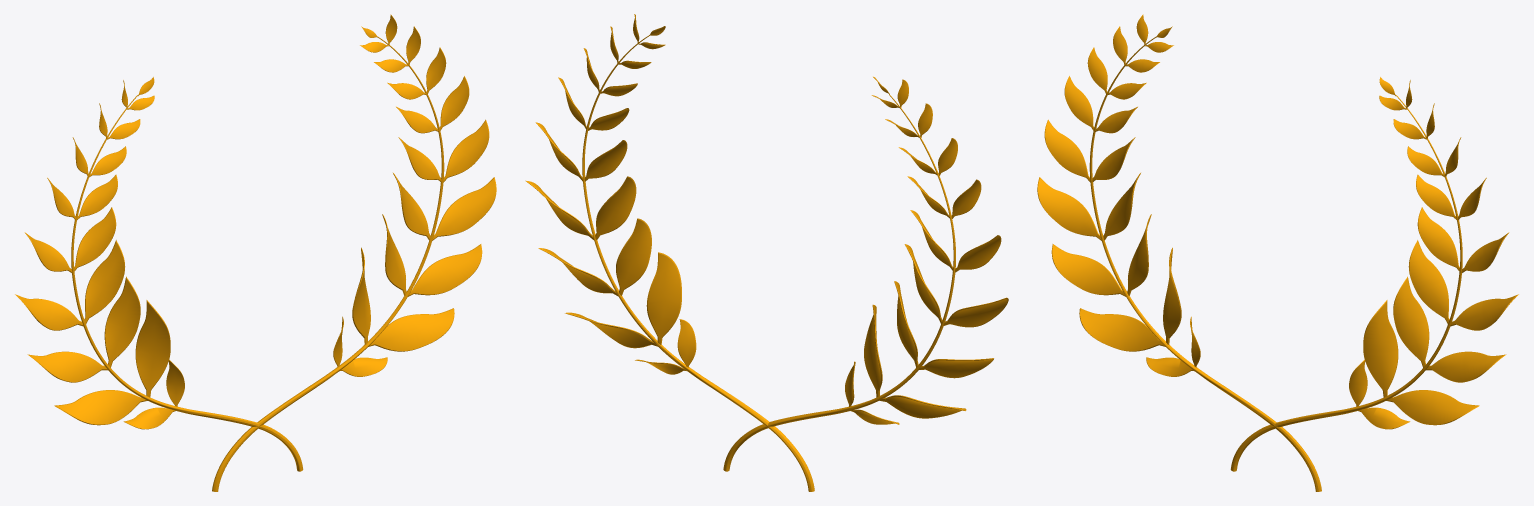
3 renders of one model, left to right at view 1: azimuth 30°, elevation 25°; view 2: azimuth 150°, elevation 25°; view 3: azimuth 330°, elevation 25°, orthographic.
Parts seen in each view (by area): view 1: Loft001, Line004_01 - Default_0, Line038_01 - Default_0, Loft002, Line042_01 - Default_0, Line006_01 - Default_0, Line035_01 - Default_0, Line008_01 - Default_0, Line039_01 - Default_0, Line037_01 - Default_0, Line010_01 - Default_0, Line036_01 - Default_0 (+14 smaller); view 2: Loft001, Line003_01 - Default_0, Loft002, Line005_01 - Default_0, Line007_01 - Default_0, Line042_01 - Default_0, Line028_01 - Default_0, Line037_01 - Default_0, Line038_01 - Default_0, Line004_01 - Default_0, Line009_01 - Default_0, Line029_01 - Default_0 (+6 smaller); view 3: Loft002, Line042_01 - Default_0, Line003_01 - Default_0, Loft001, Line004_01 - Default_0, Line037_01 - Default_0, Line005_01 - Default_0, Line028_01 - Default_0, Line007_01 - Default_0, Line006_01 - Default_0, Line029_01 - Default_0, Line009_01 - Default_0 (+14 smaller).
Part boxes in pixels (left/top/right/bottom): Loft001: left=212, top=37, right=444, bottom=491; Line004_01 - Default_0: left=368, top=308, right=454, bottom=351; Line038_01 - Default_0: left=135, top=300, right=170, bottom=397; Loft002: left=71, top=95, right=303, bottom=471; Line042_01 - Default_0: left=54, top=390, right=147, bottom=425; Line006_01 - Default_0: left=408, top=244, right=482, bottom=296; Line035_01 - Default_0: left=104, top=276, right=140, bottom=367; Line008_01 - Default_0: left=432, top=177, right=496, bottom=240; Line039_01 - Default_0: left=84, top=240, right=125, bottom=323; Line037_01 - Default_0: left=27, top=351, right=107, bottom=382; Line010_01 - Default_0: left=443, top=119, right=489, bottom=181; Line036_01 - Default_0: left=74, top=207, right=116, bottom=271; Loft001: left=582, top=35, right=814, bottom=491; Line003_01 - Default_0: left=646, top=252, right=681, bottom=344; Loft002: left=723, top=94, right=955, bottom=471; Line005_01 - Default_0: left=616, top=218, right=651, bottom=295; Line007_01 - Default_0: left=595, top=176, right=636, bottom=239; Line042_01 - Default_0: left=879, top=395, right=966, bottom=418; Line028_01 - Default_0: left=943, top=297, right=1008, bottom=327; Line037_01 - Default_0: left=919, top=358, right=993, bottom=378; Line038_01 - Default_0: left=864, top=304, right=882, bottom=397; Line004_01 - Default_0: left=565, top=312, right=657, bottom=348; Line009_01 - Default_0: left=584, top=140, right=627, bottom=181; Line029_01 - Default_0: left=955, top=235, right=1001, bottom=272; Loft002: left=1089, top=37, right=1321, bottom=491; Line042_01 - Default_0: left=1079, top=308, right=1165, bottom=351; Line003_01 - Default_0: left=1363, top=300, right=1398, bottom=397; Loft001: left=1230, top=95, right=1462, bottom=471; Line004_01 - Default_0: left=1386, top=390, right=1479, bottom=425; Line037_01 - Default_0: left=1051, top=244, right=1125, bottom=296; Line005_01 - Default_0: left=1393, top=276, right=1429, bottom=367; Line028_01 - Default_0: left=1037, top=177, right=1101, bottom=240; Line007_01 - Default_0: left=1408, top=240, right=1449, bottom=323; Line006_01 - Default_0: left=1426, top=351, right=1506, bottom=382; Line029_01 - Default_0: left=1044, top=119, right=1090, bottom=181; Line009_01 - Default_0: left=1417, top=207, right=1459, bottom=271.
Size of the model in its own units: 0.1567 by 0.1353 by 0.00751.
